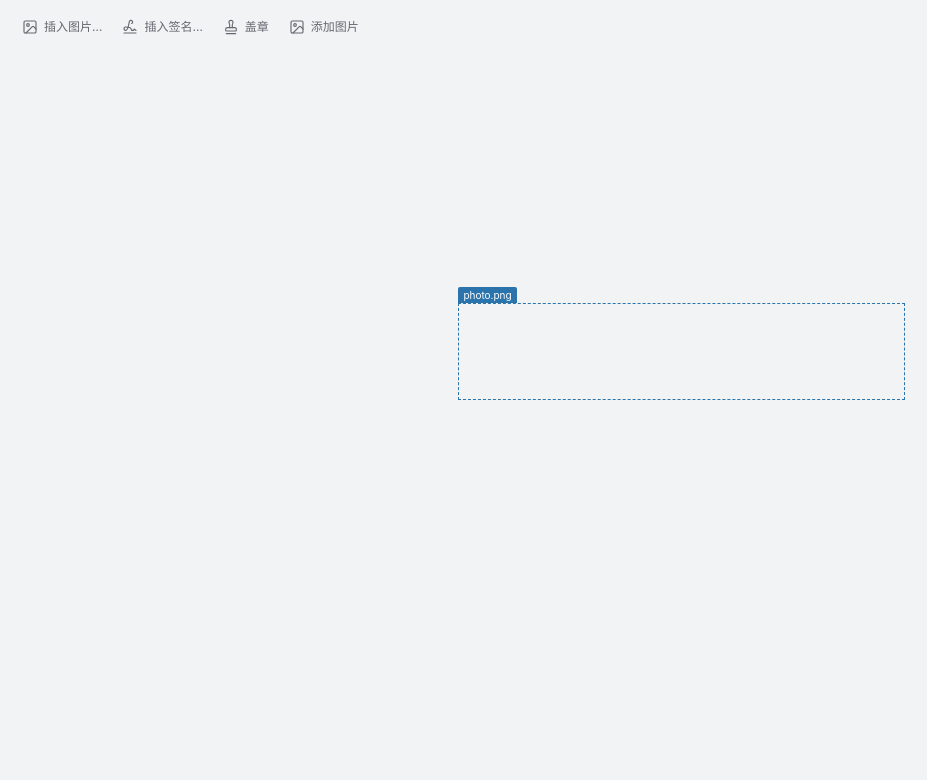
Test: PageImageLayer › deletes the selected image and lets the page refresh
This screenshot has width=927, height=780.
Press the mouse on the element with test id "image-outline-1": (682, 351) [458,303,905,400]
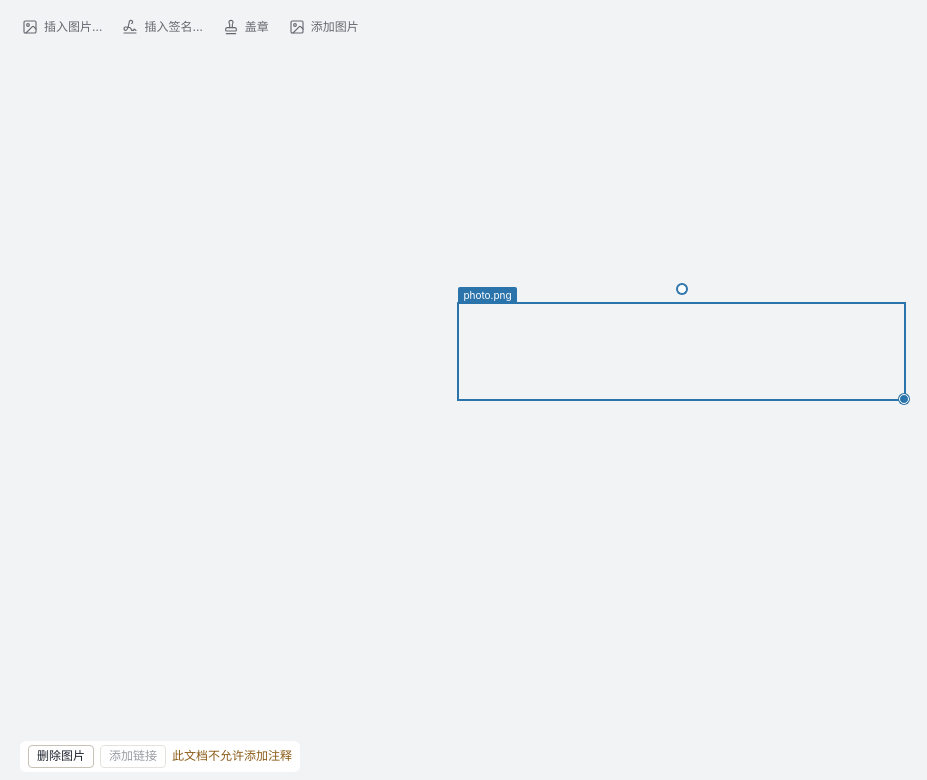
Click the button "删除图片": click(61, 757) [28,745,94,768]
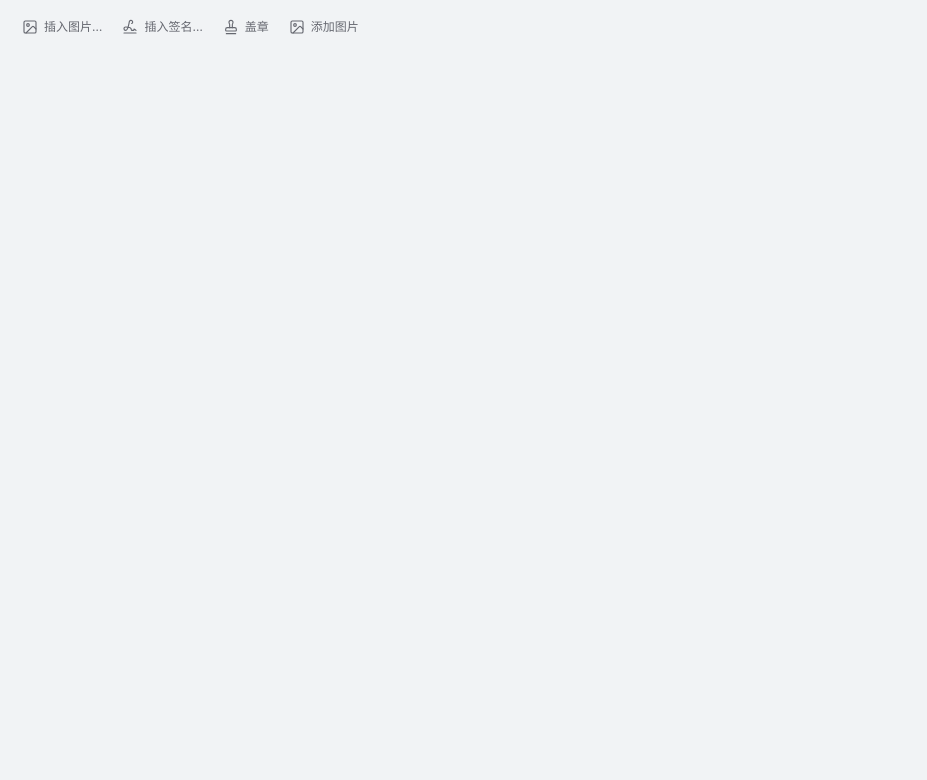
Now the element with test id "image-outline-1" is gone
